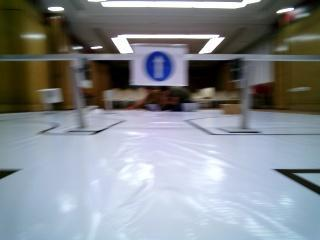straight: (132, 42, 193, 86)
